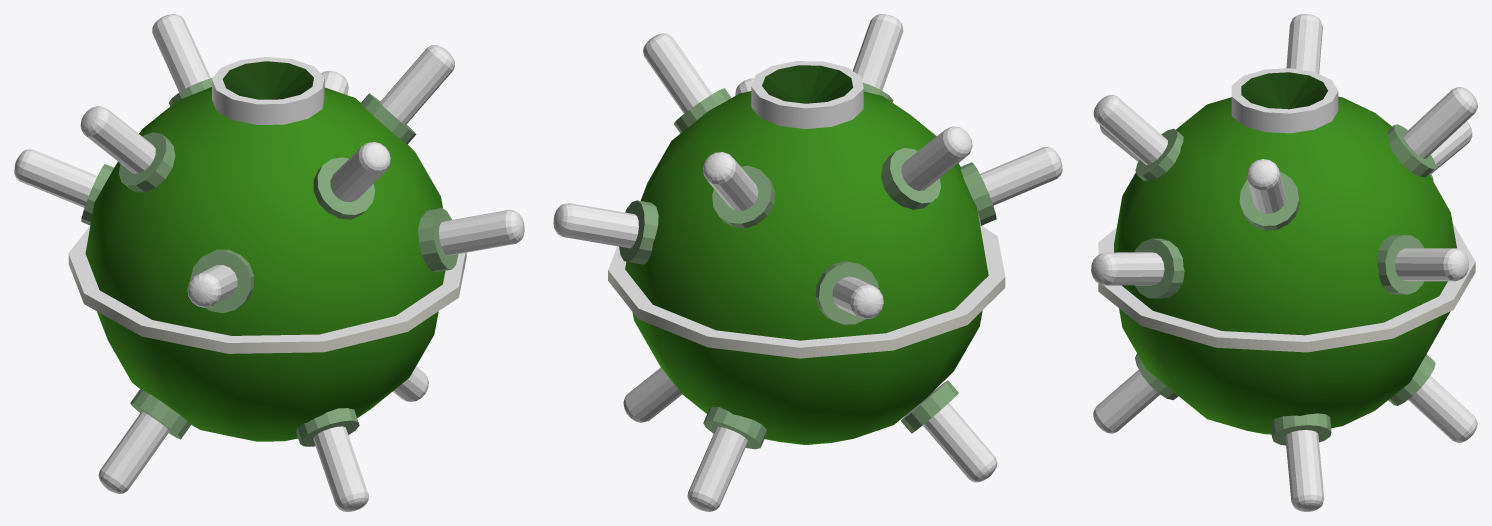
The model's file is green-bomb.fbx.
The picture shows the model from 3 angles, left to right: view 1: azimuth 30°, elevation 25°; view 2: azimuth 150°, elevation 25°; view 3: azimuth 270°, elevation 25°; orthographic projection. The views are drawn at different scales.
Parts seen in each view (by area): view 1: Sphere.002; view 2: Sphere.002; view 3: Sphere.002.
Boxes of the visible parts, x1,y1,x2,y2 form: Sphere.002: (14,14,524,511); Sphere.002: (553,14,1062,511); Sphere.002: (1091,14,1477,511).
Size of the model in its own units: 220 by 222 by 221.
